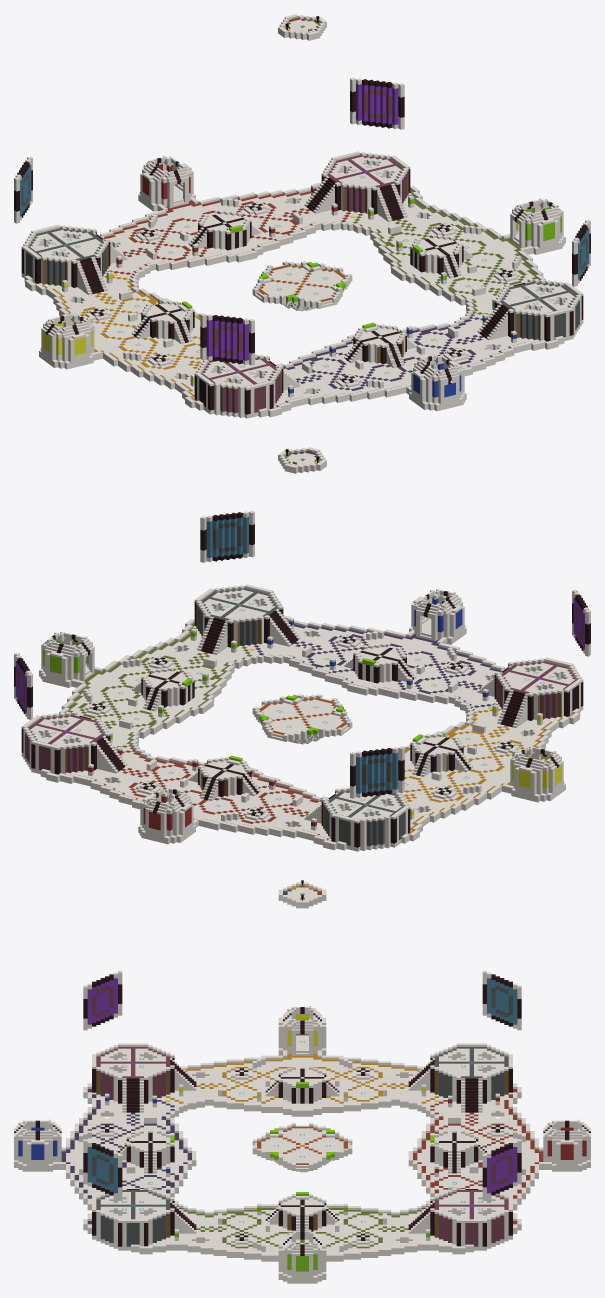
File: minecraft.obj
The picture shows the model from 3 angles, top to bottom: view 1: azimuth 30°, elevation 25°; view 2: azimuth 150°, elevation 25°; view 3: azimuth 270°, elevation 25°; orthographic projection. The views are drawn at different scales.
Size of the model in its own units: 133 by 72.02 by 133.
